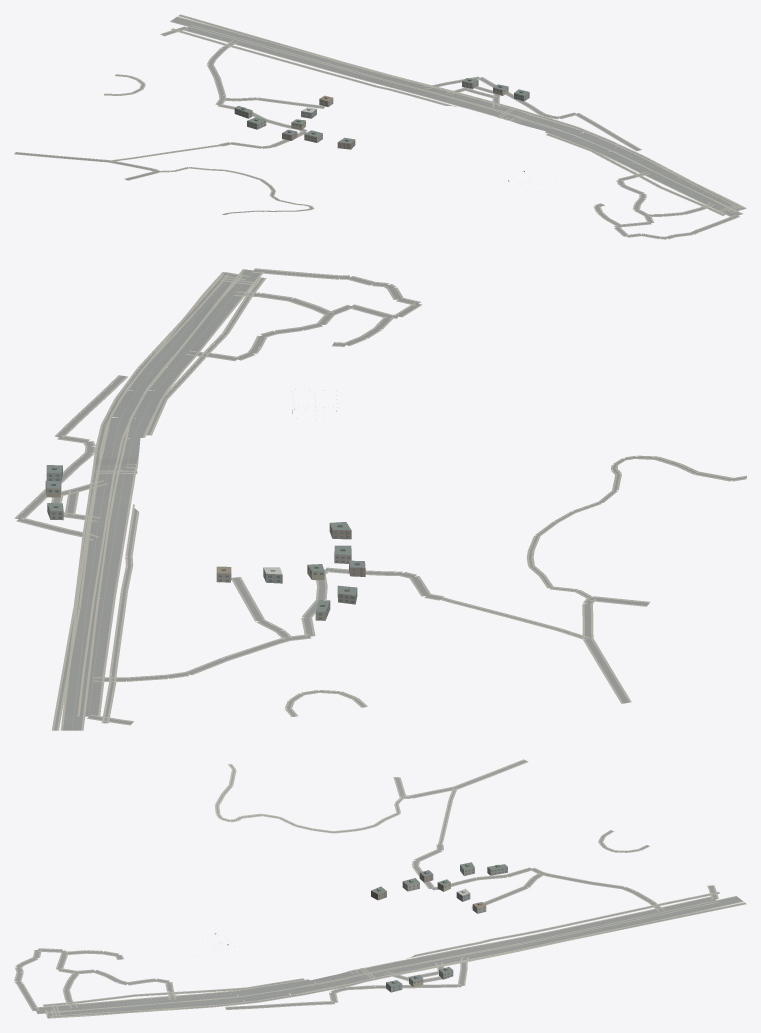
3 renders of one model, top to bottom at view 1: azimuth 30°, elevation 25°; view 2: azimuth 150°, elevation 25°; view 3: azimuth 270°, elevation 25°, orthographic. The views are drawn at different scales.
Visible parts, largest first — view 1: context-osm-roads, context-osm-sidewalks, context-osm-buildings; view 2: context-osm-roads, context-osm-sidewalks, context-osm-buildings; view 3: context-osm-roads, context-osm-sidewalks, context-osm-buildings.
Part boxes in pixels (x1,y1,x2,y2): context-osm-roads: [14, 15, 745, 238]; context-osm-sidewalks: [14, 14, 746, 239]; context-osm-buildings: [234, 78, 529, 149]; context-osm-roads: [16, 269, 746, 730]; context-osm-sidewalks: [14, 268, 746, 730]; context-osm-buildings: [45, 465, 365, 620]; context-osm-roads: [15, 760, 745, 1017]; context-osm-sidewalks: [14, 759, 746, 1018]; context-osm-buildings: [371, 862, 507, 992].
Bounding box in the file's own units: 572 × 38.83 × 704.
